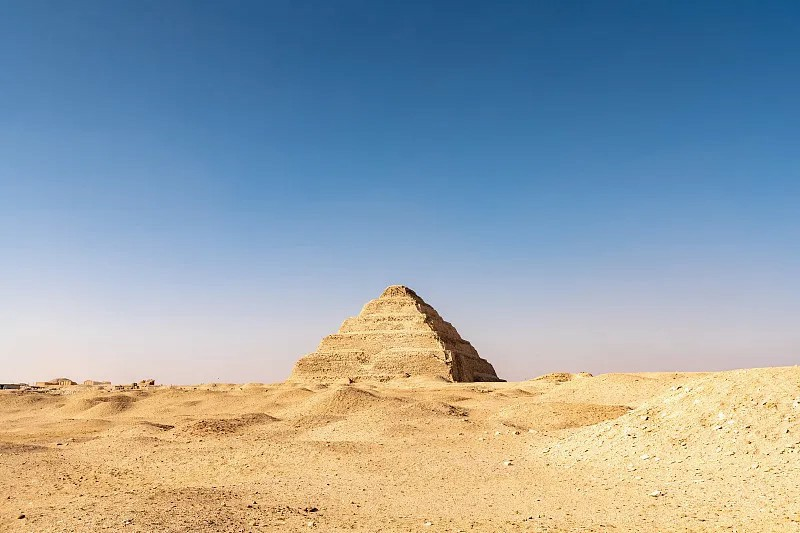Pyramid: (293, 286, 503, 384)
